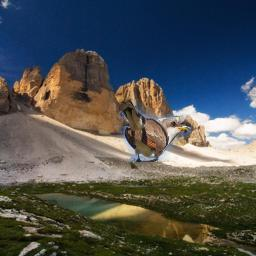Cuckoo: (108, 84, 191, 162)
